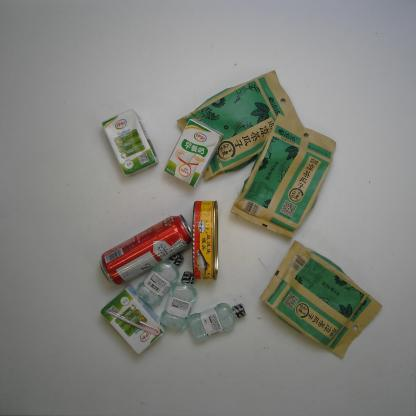Alcohol: (99, 214, 191, 288)
Canned Food: (191, 198, 222, 280)
Dried Food: (261, 237, 382, 362), (174, 70, 304, 183), (230, 112, 338, 243)
Milk: (102, 284, 166, 356), (164, 118, 224, 188), (100, 107, 158, 176)
Personal Hygiene: (134, 251, 182, 308), (156, 271, 198, 331), (186, 301, 246, 343)
